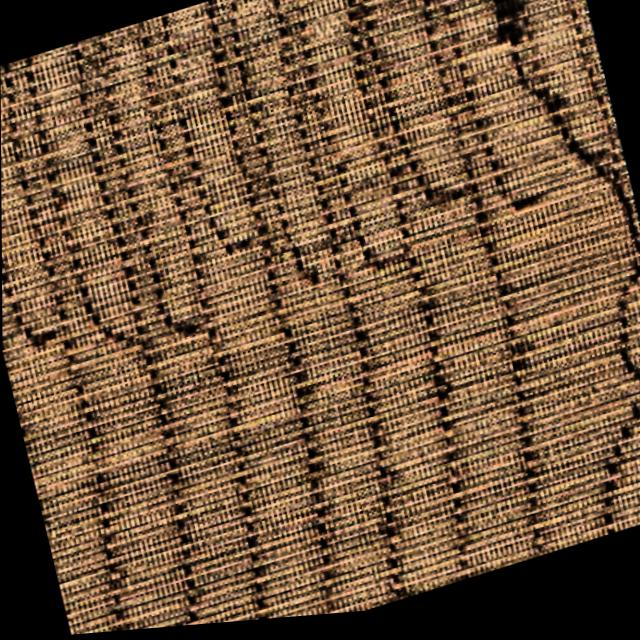Stitch: (456, 0, 611, 179)
